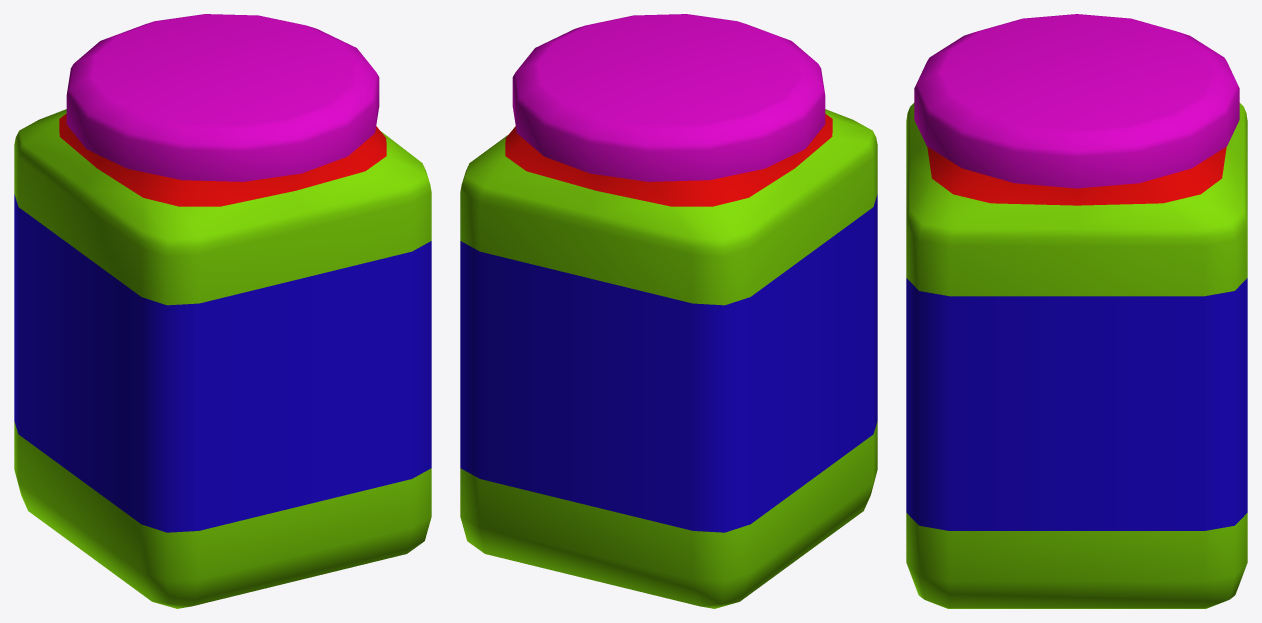
Rendered from jar.fbx.
The picture shows the model from 3 angles, left to right: view 1: azimuth 30°, elevation 25°; view 2: azimuth 150°, elevation 25°; view 3: azimuth 270°, elevation 25°; orthographic projection. The views are drawn at different scales.
Parts seen in each view (by area): view 1: Plane.004; view 2: Plane.004; view 3: Plane.004.
Part boxes in pixels (box(x1,y1,x2,y2)): Plane.004: box(14, 14, 431, 608); Plane.004: box(460, 14, 877, 608); Plane.004: box(906, 14, 1247, 608).
Bounding box in the file's own units: 1.01 × 1.01 × 1.57.
